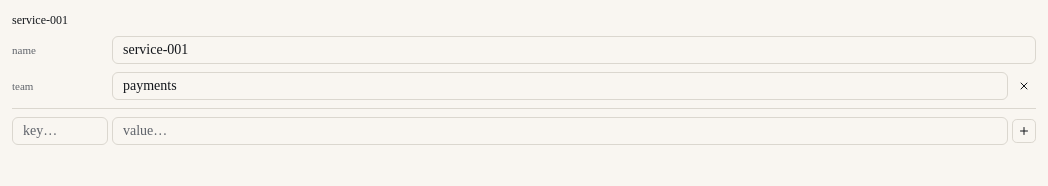
AttributesEditor › explains a blank value instead of saving it
The width and height of the screenshot is (1048, 186).
Clear the field labelled "team" at [560, 86], box [112,72,1008,100]
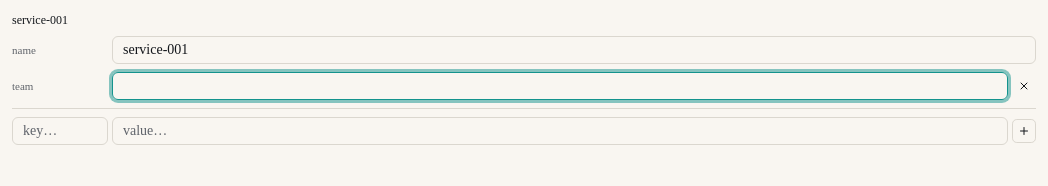
Press Tab
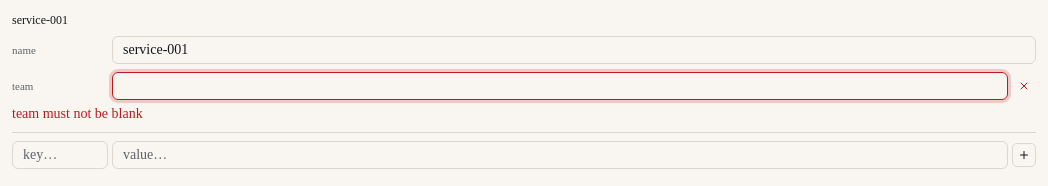
Now the text "team must not be blank" is shown, box [12,106,143,121]
